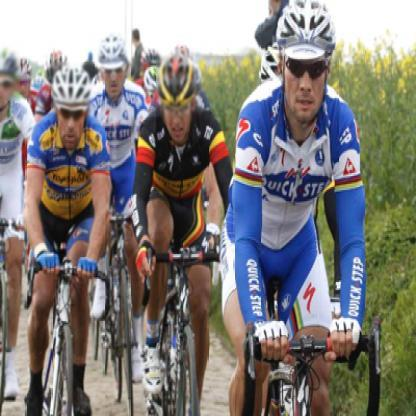Helmet: (277, 1, 335, 123), (158, 55, 201, 145), (50, 66, 92, 150), (96, 33, 130, 99), (28, 77, 53, 120), (2, 45, 16, 111), (47, 46, 67, 76)
